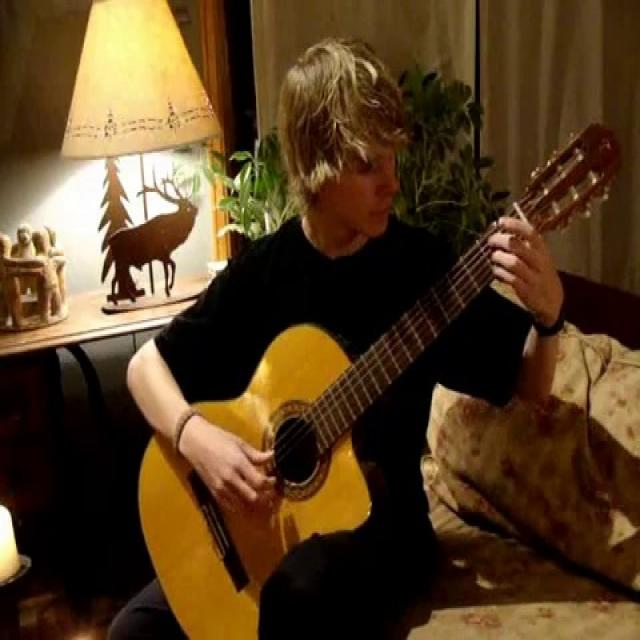Flute: (124, 93, 632, 638)
